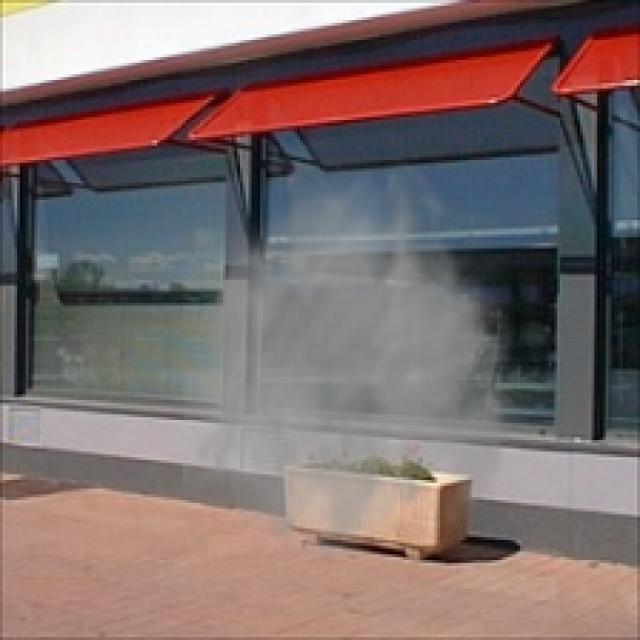Smoke: (183, 154, 543, 572)
